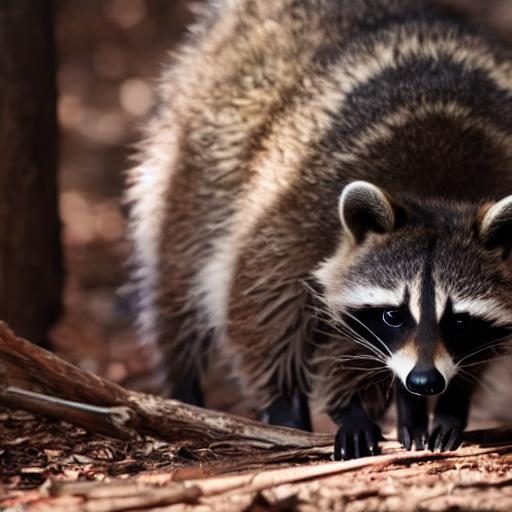raccoon: (124, 0, 512, 402)
